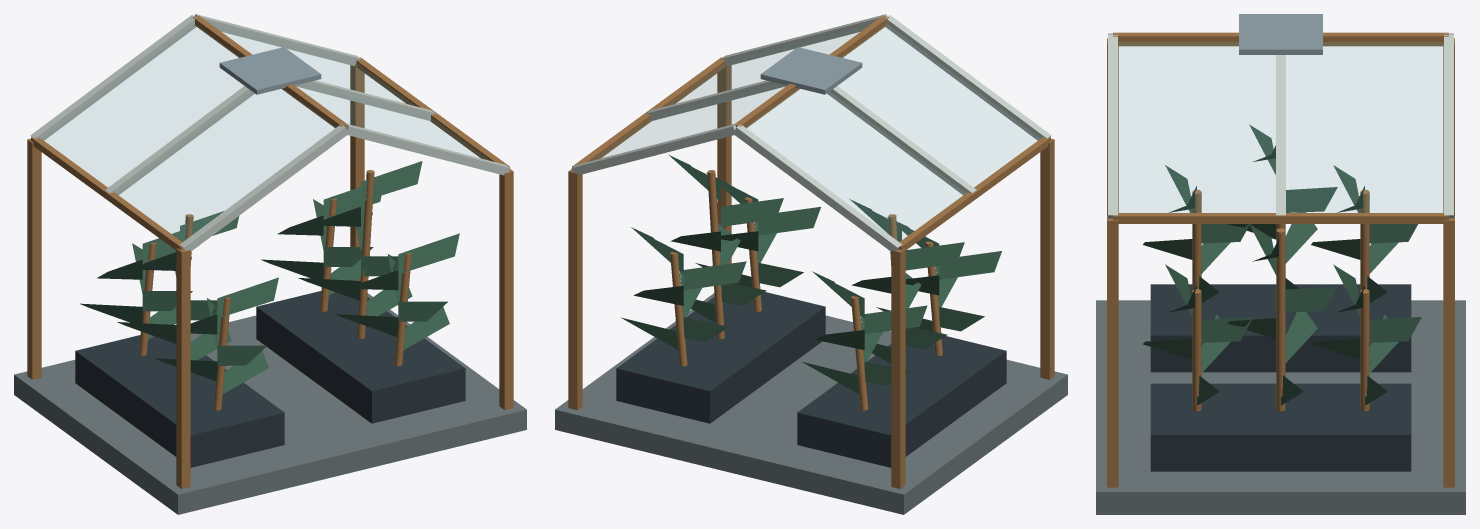
Rendered from glass-garden.lod1.glb.
3 renders of one model, left to right at view 1: azimuth 30°, elevation 25°; view 2: azimuth 150°, elevation 25°; view 3: azimuth 270°, elevation 25°, orthographic. The views are drawn at different scales.
Parts seen in each view (by area): view 1: structure, vent; view 2: structure, vent; view 3: structure, vent.
Part boxes in pixels (bbox=[...]): structure: bbox=[14, 14, 526, 514]; vent: bbox=[219, 47, 321, 94]; structure: bbox=[555, 14, 1067, 514]; vent: bbox=[760, 47, 862, 94]; structure: bbox=[1096, 32, 1465, 514]; vent: bbox=[1239, 14, 1322, 54].
Size of the model in its own units: 5.4 by 5.09 by 4.4.
